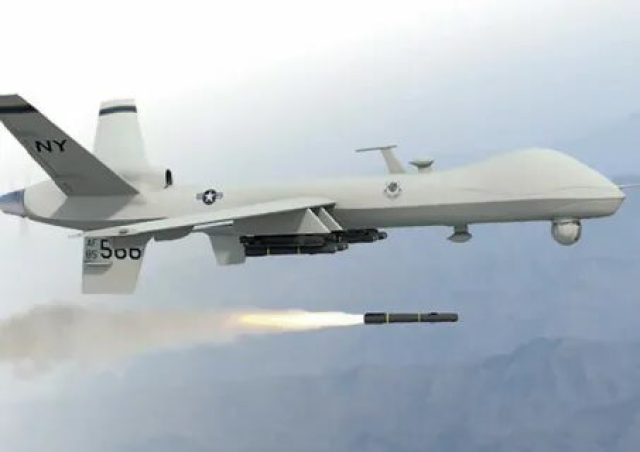military drone: (0, 92, 640, 294)
